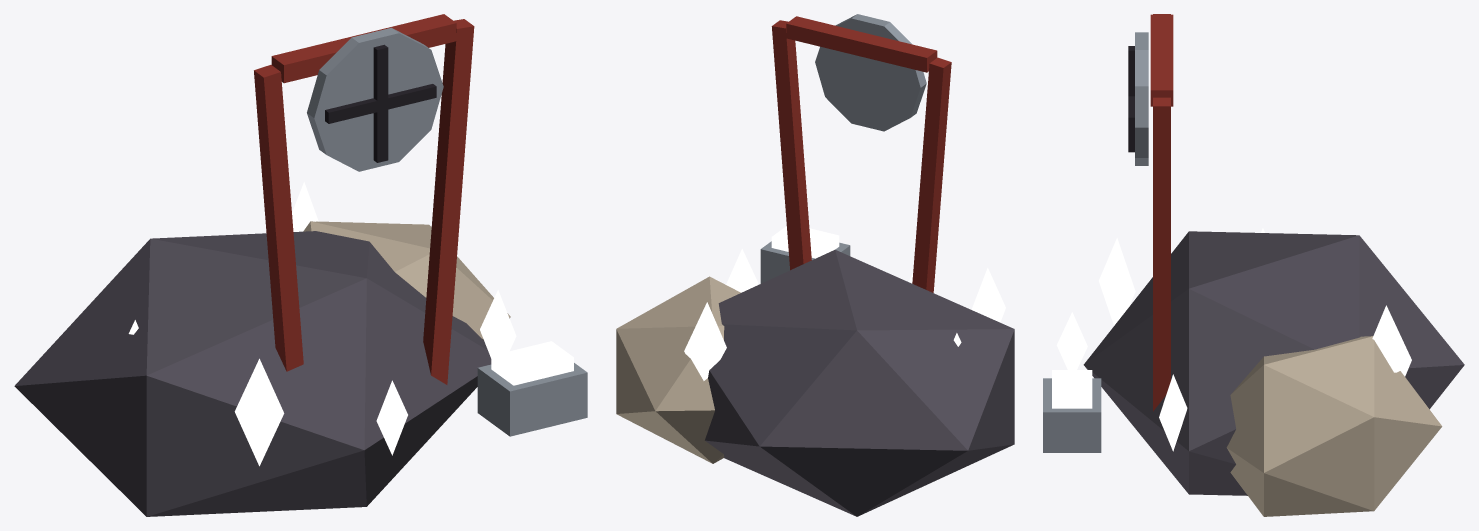
Rendered from mine_t2.glb.
3 views of the same model, side by side, from view 1: azimuth 30°, elevation 25°; view 2: azimuth 150°, elevation 25°; view 3: azimuth 270°, elevation 25° (orthographic). The views are drawn at different scales.
Visible parts, largest first — view 1: body, part_rotor, glow; view 2: body, part_rotor, glow; view 3: body, glow, part_rotor.
Part boxes in pixels (x1,y1,x2,y2): body: (14,14,587,516); part_rotor: (307,27,443,171); glow: (128,182,573,466); body: (616,16,1014,516); part_rotor: (815,14,926,131); glow: (684,226,1005,380); body: (1043,14,1464,516); glow: (1052,228,1411,451); part_rotor: (1128,32,1148,165).
Bounding box in the file's own units: 2.05 × 2.19 × 1.88.
